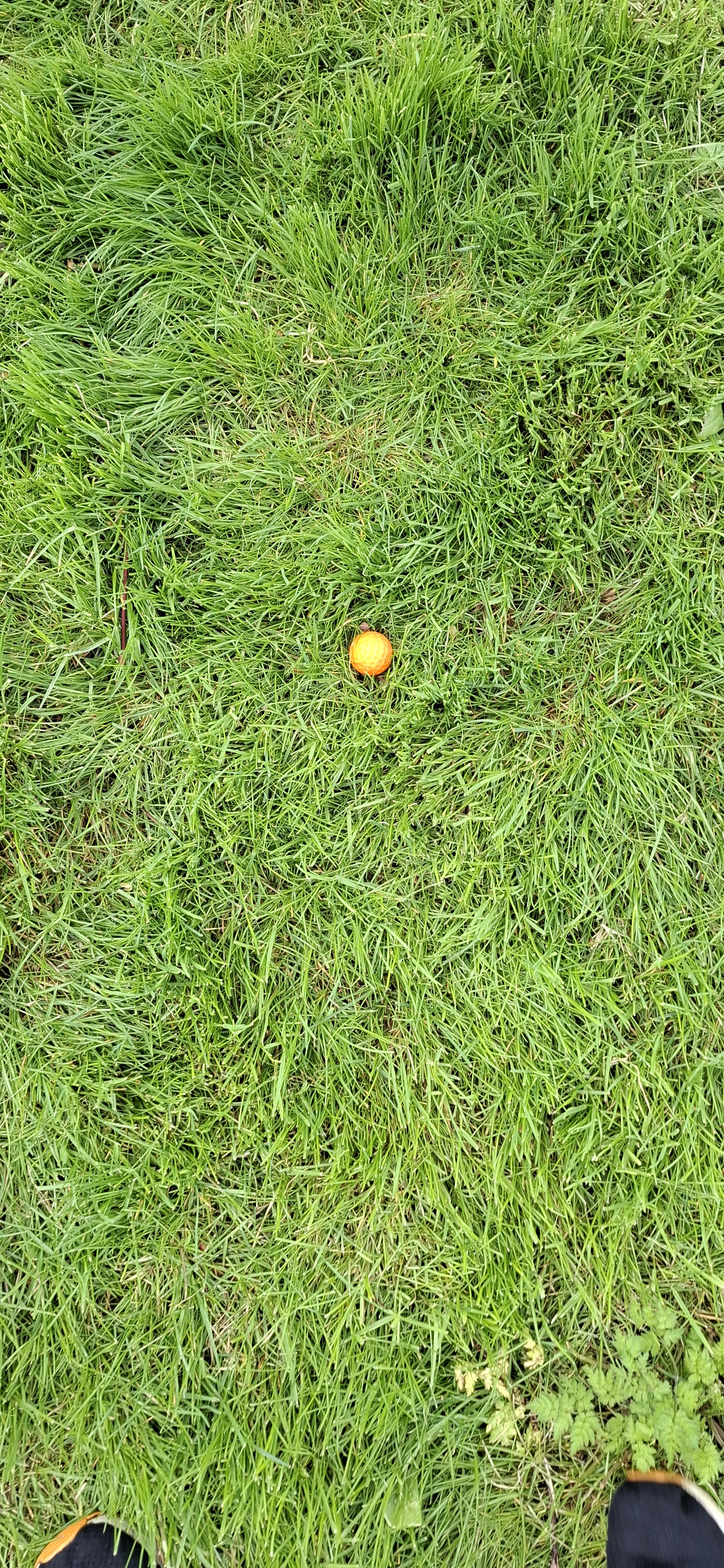ball: (291, 717, 313, 815)
